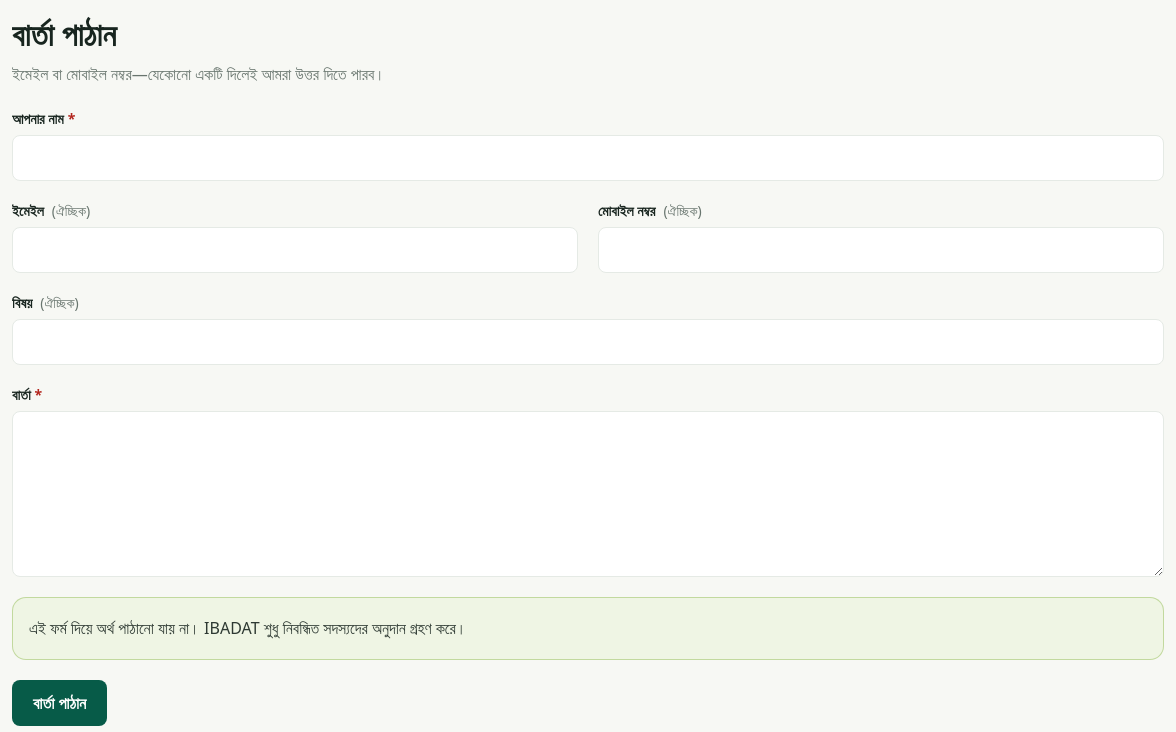
Test: ContactForm › sends a valid message and confirms
Type "Visitor" into the field labelled "আপনার নাম*" at (588, 158), box [12,135,1164,181]
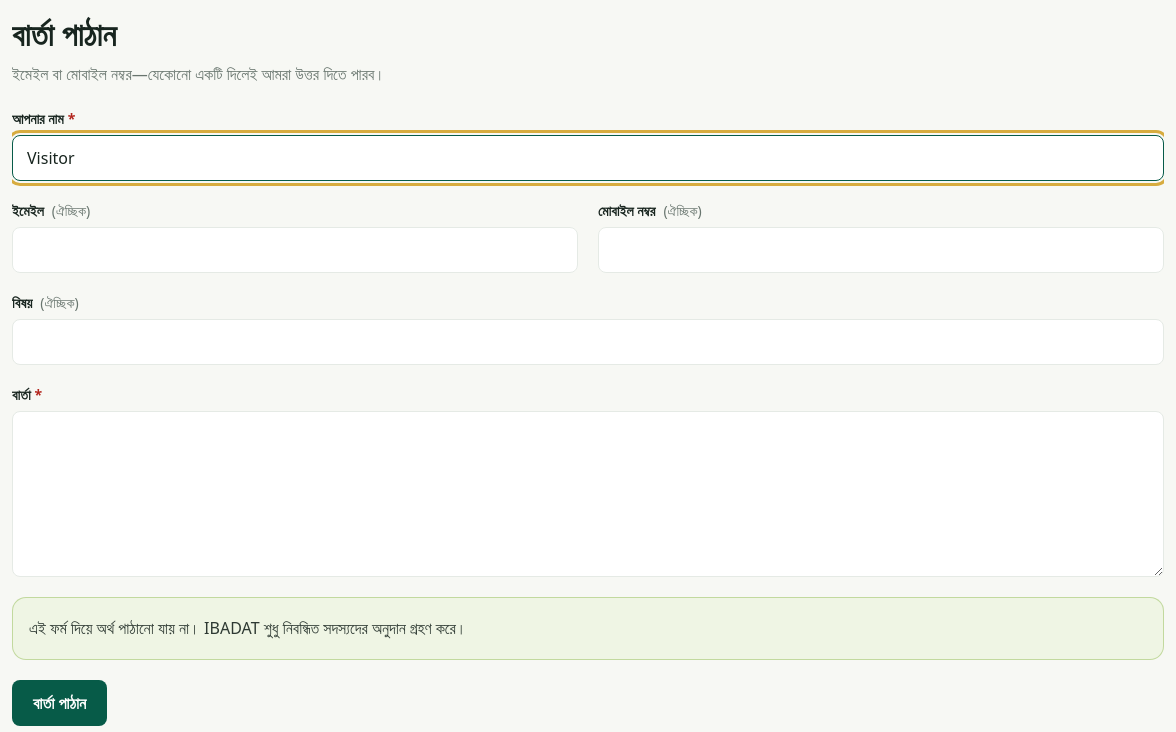
Type "v@example.org" into the field labelled "ইমেইল(ঐচ্ছিক)" at (295, 250), box [12,227,578,273]
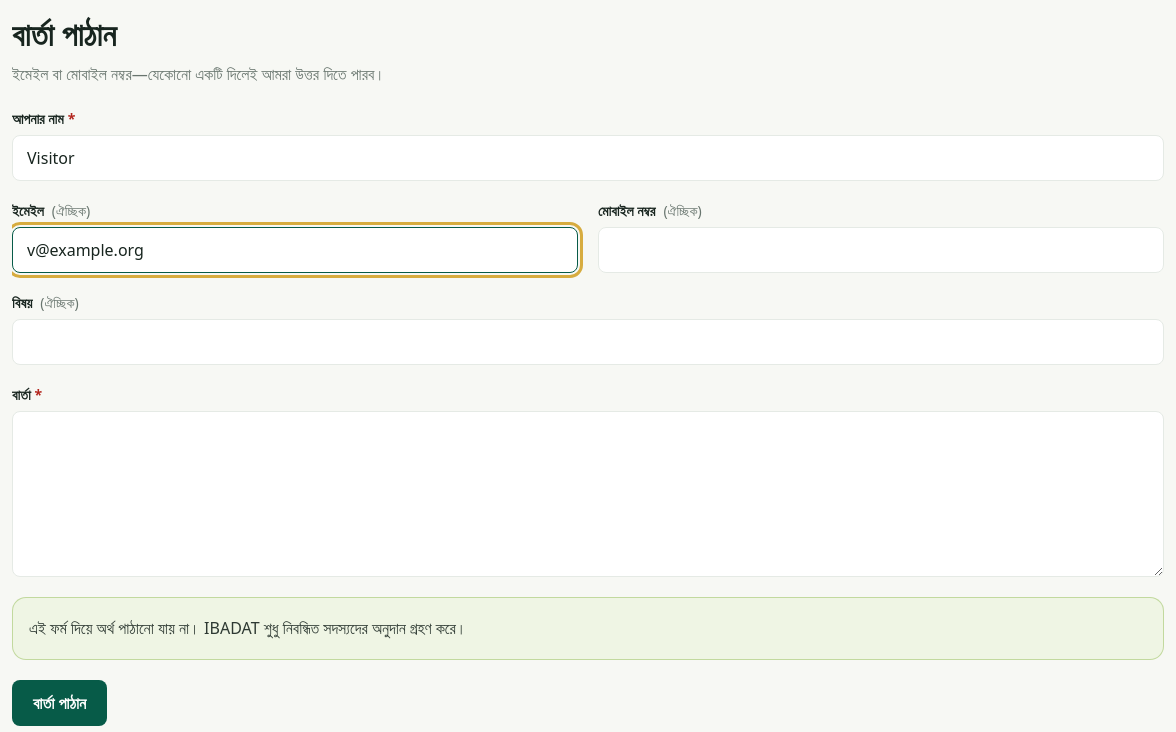
Type "একটি যথেষ্ট লম্বা বার্তা" into the text box labelled "বার্তা*" at (588, 494), box [12,411,1164,577]
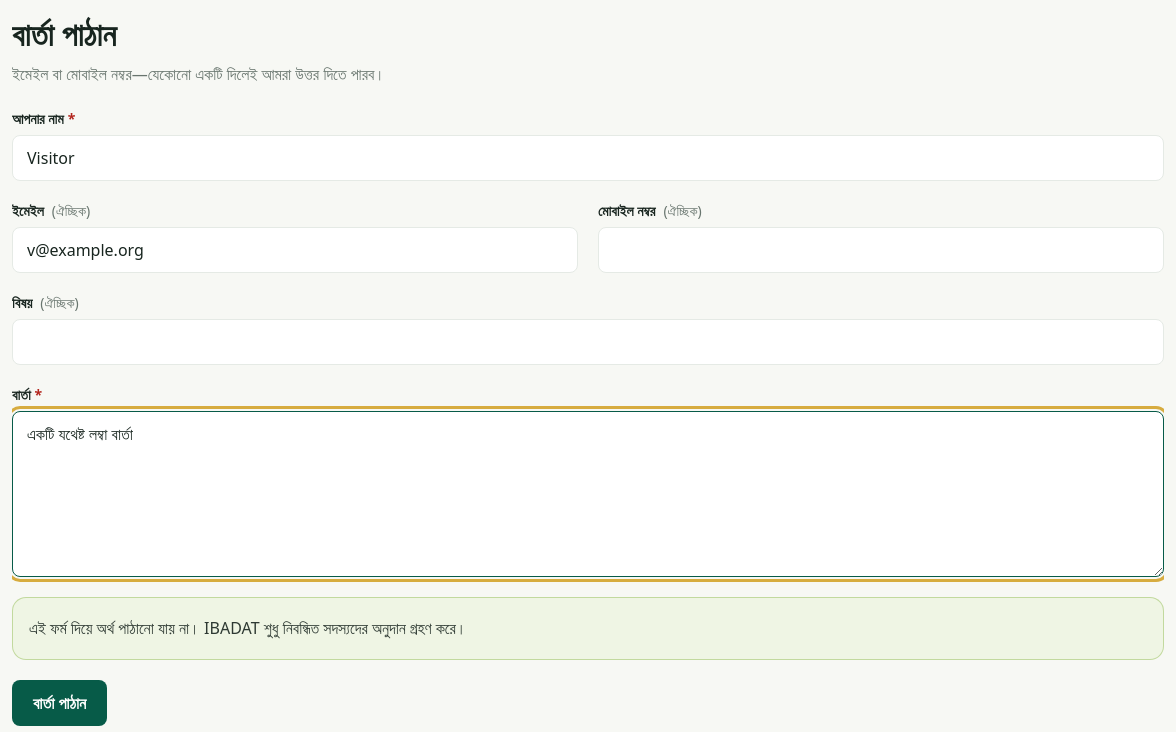
Click the button "বার্তা পাঠান" at (60, 703), box [12,680,107,726]
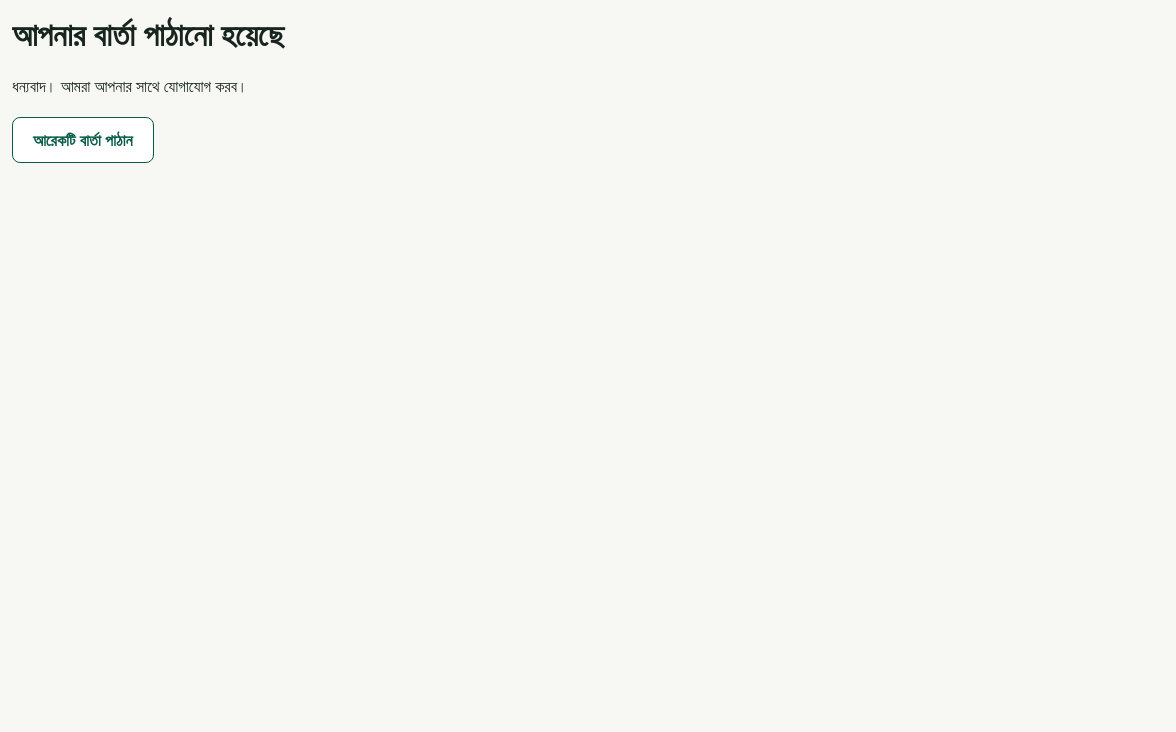
Result: the heading "আপনার বার্তা পাঠানো হয়েছে" is shown at [12,12,284,55]
